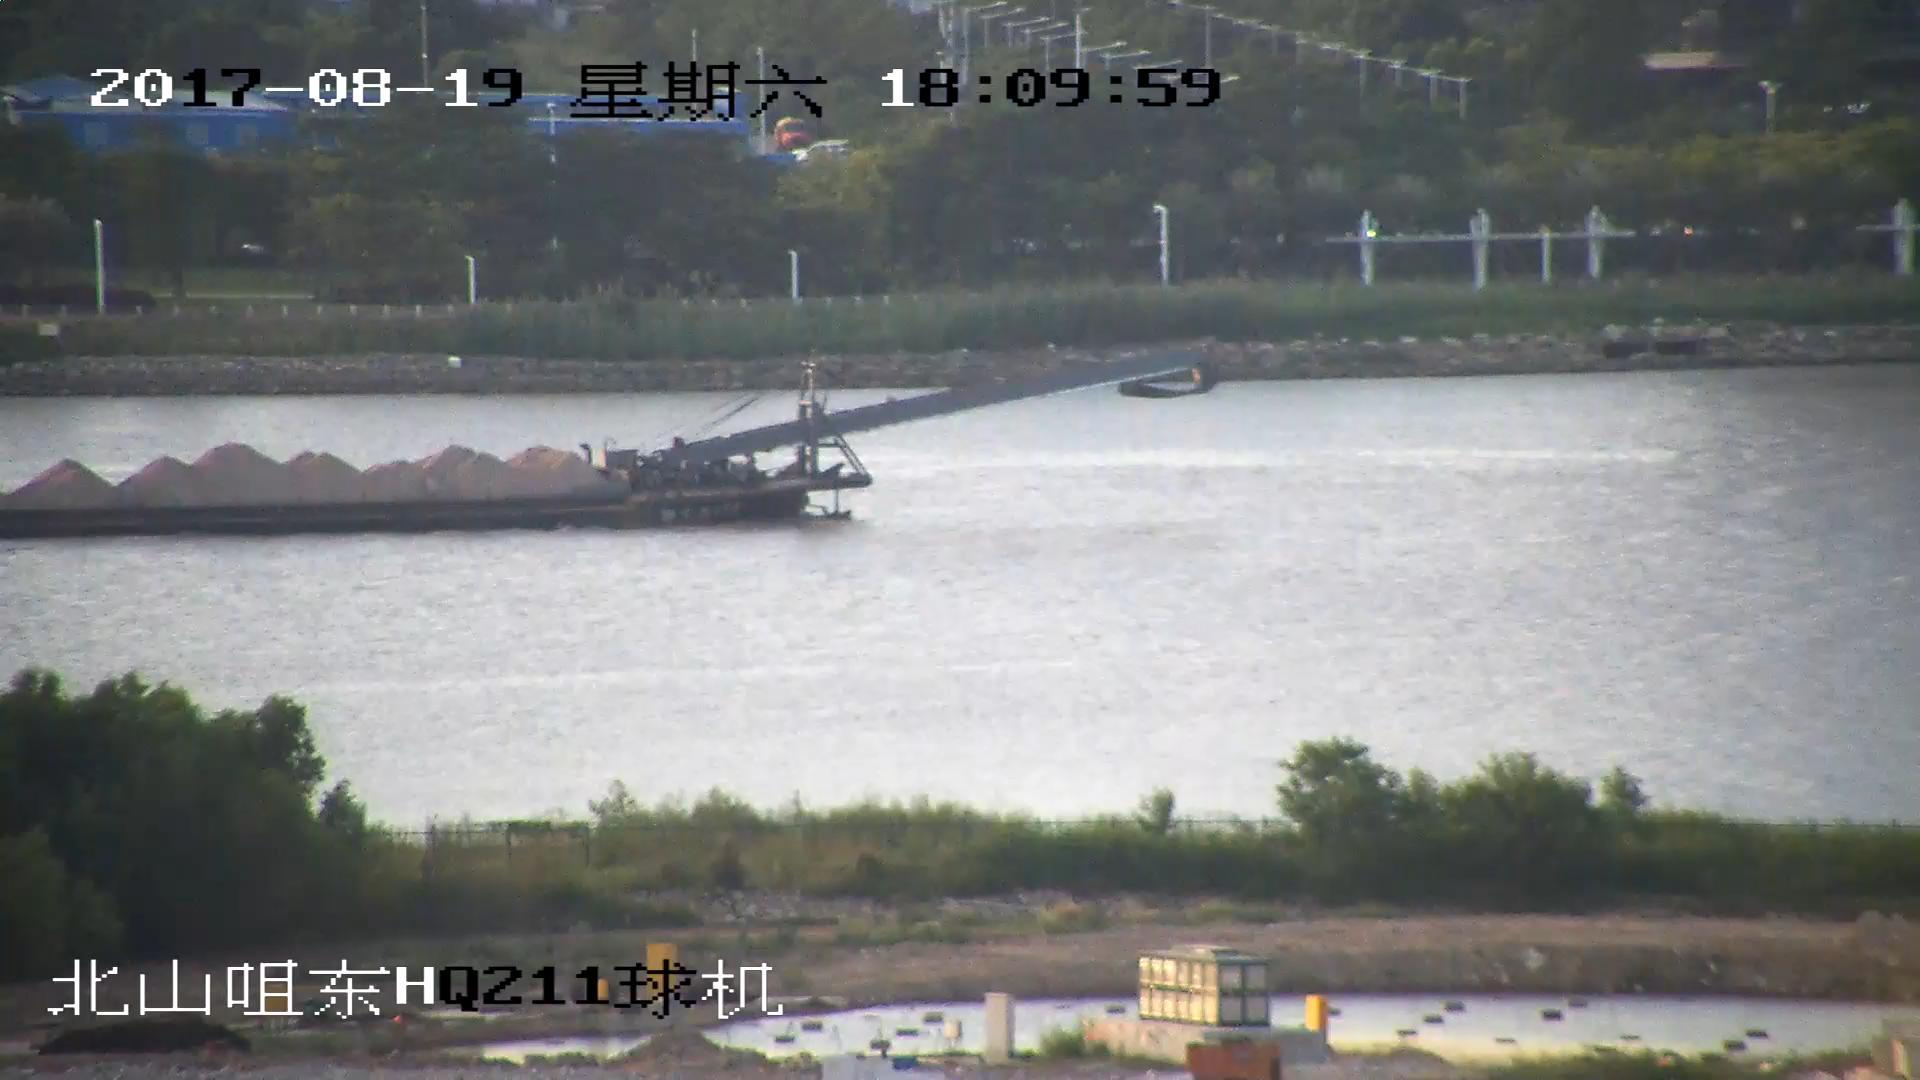Ship: (3, 348, 1211, 545)
